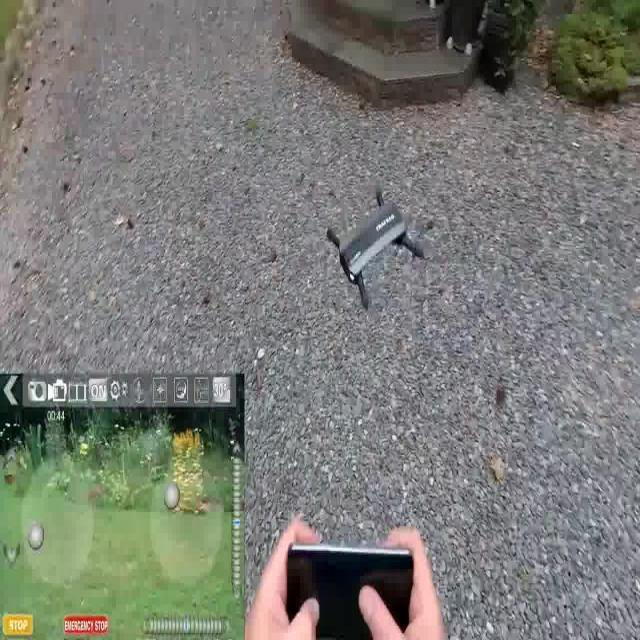drone: (324, 184, 426, 310)
